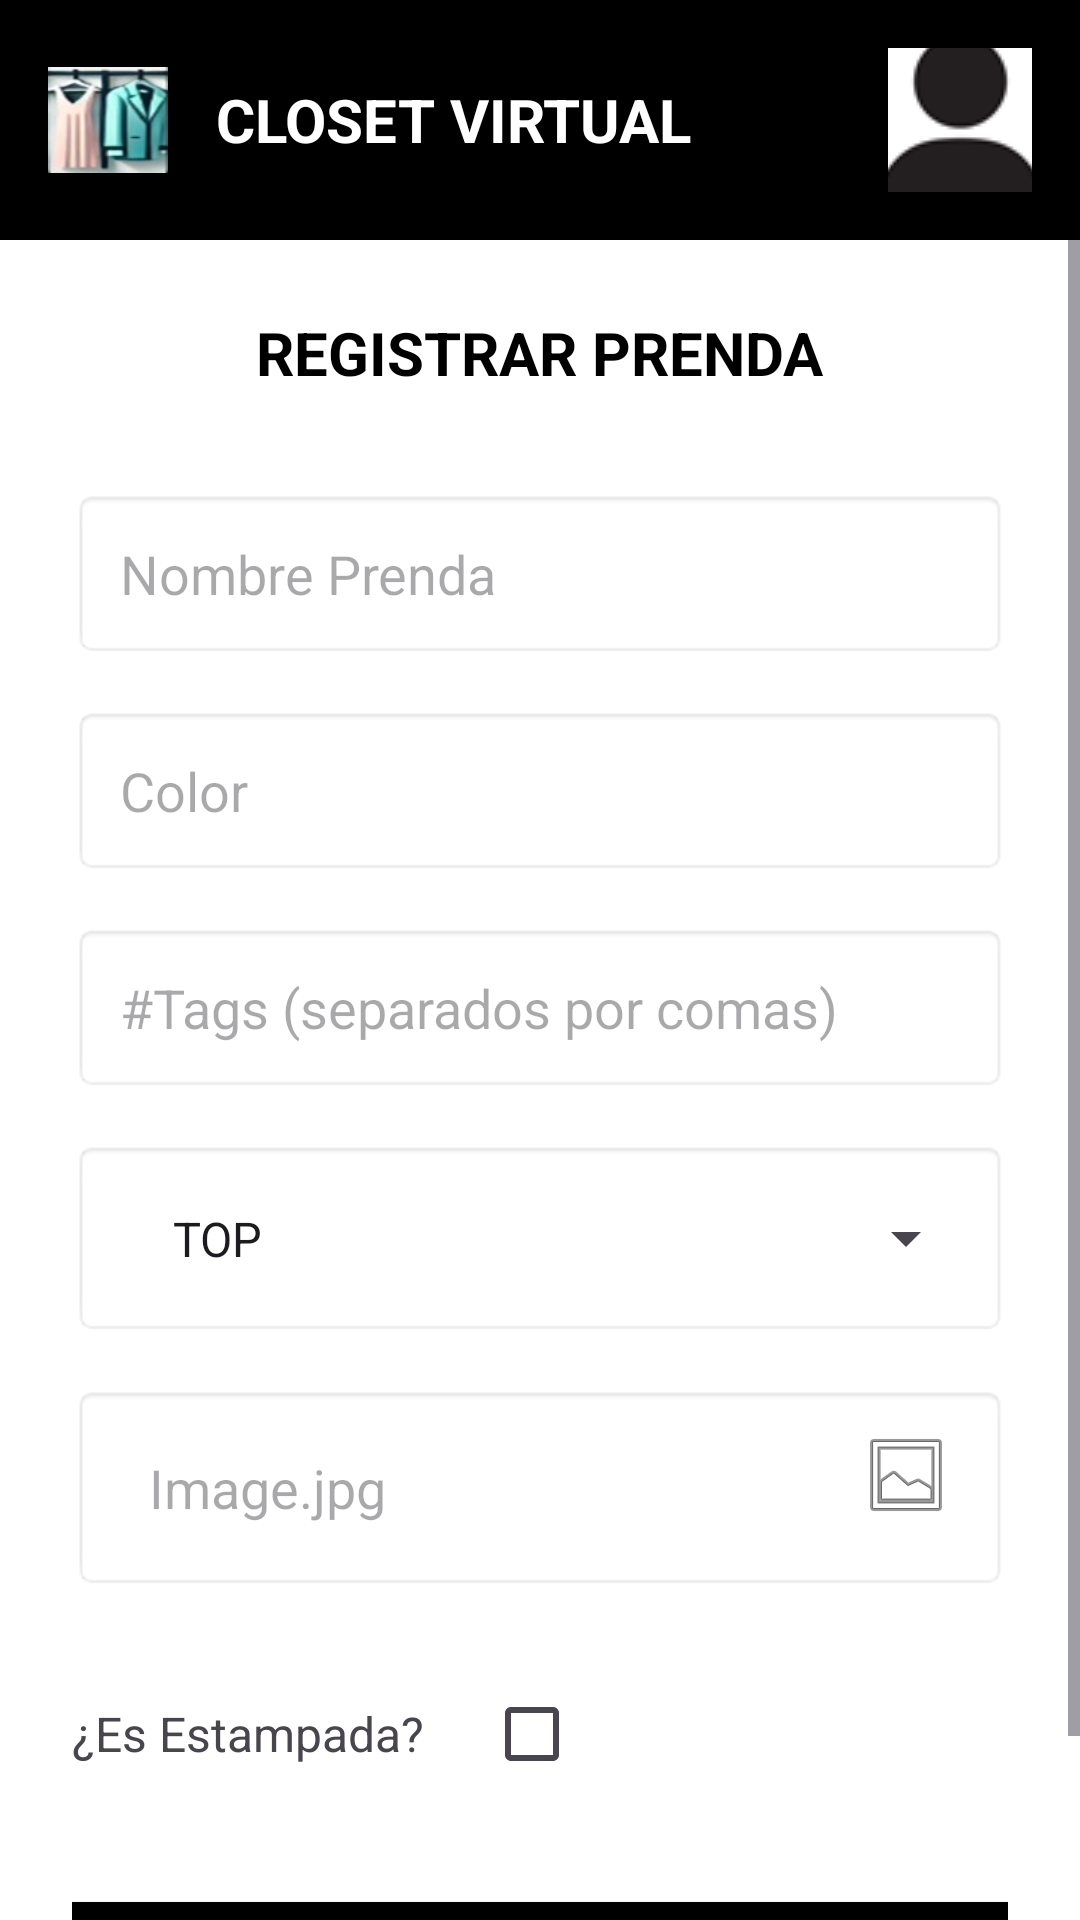

Where icons sit on this 1080px x 1920px app screen, as [x1, y1, x2, y2]:
gallery: [870, 1439, 942, 1511]
user iconn: [888, 48, 1032, 192]
